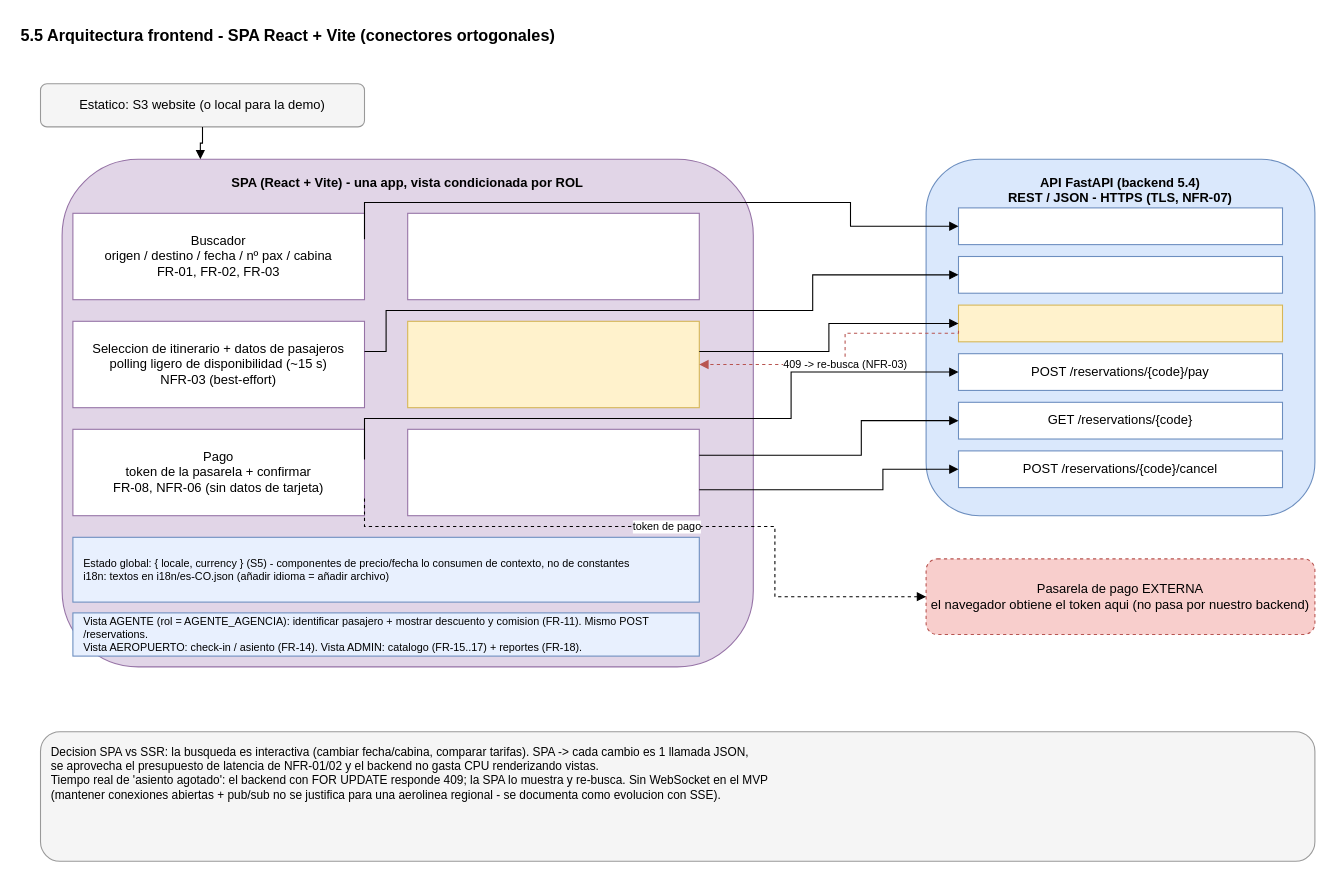
Image size: 1334x880. Some labels were removed from this diagram. Each missing label, with the centre of its shape:
"Confirmacion / hold maneja HTTP 409 -> mensaje + re-busca FR-04, FR-06, NFR-03" goes at (553,364).
"Consultar / cancelar reserva codigo + apellido FR-12, FR-09" goes at (553,472).
"GET /flights/search" goes at (1119,226).
"GET /flights/{id}/availability (polling)" goes at (1119,274).
"POST /reservations -> 201 { codigo } | 409" goes at (1119,323).
"Resultados directos + 1 escala, precio por tarifa FR-03" goes at (553,256).
